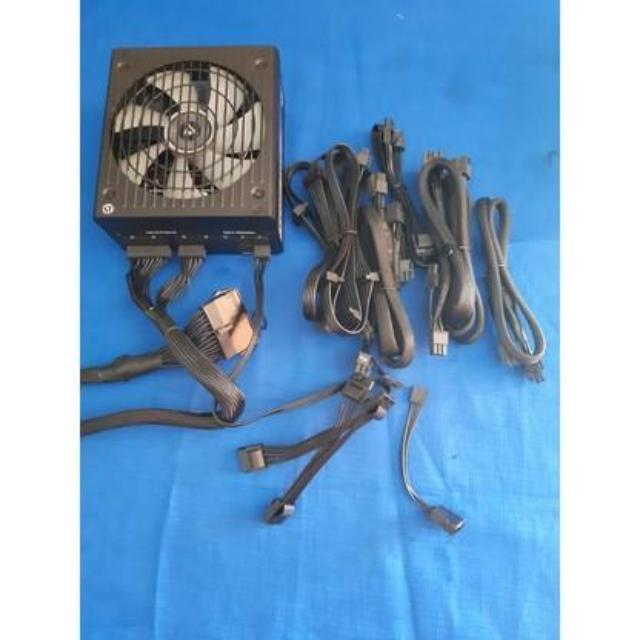PSU: (88, 41, 297, 281)
